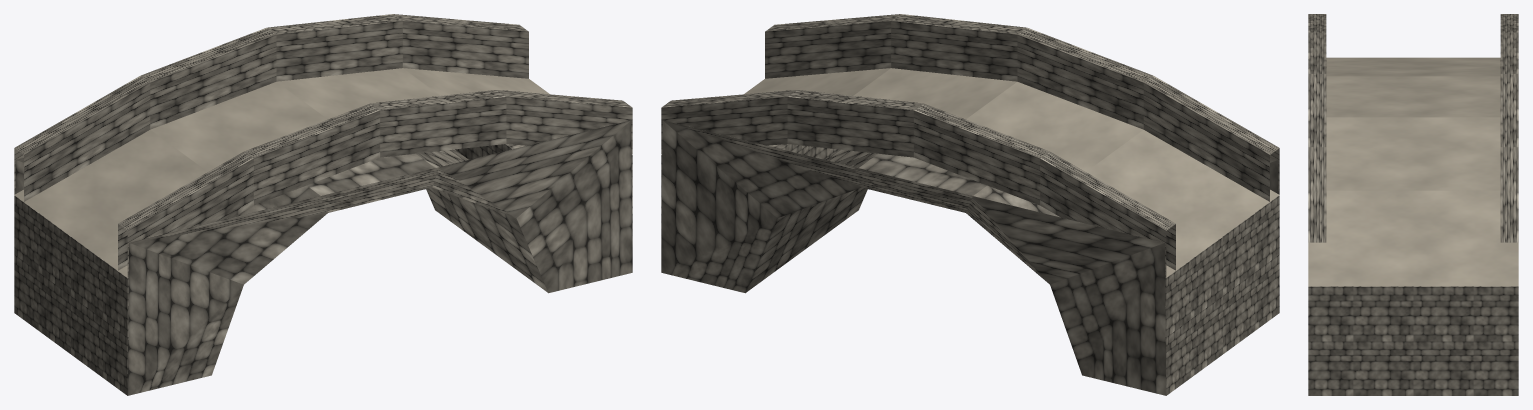
Rendered from Bridge_Stone_Hump_1_LOD2.gltf.
3 renders of one model, left to right at view 1: azimuth 30°, elevation 25°; view 2: azimuth 150°, elevation 25°; view 3: azimuth 270°, elevation 25°, orthographic. The views are drawn at different scales.
Parts seen in each view (by area): view 1: Bridge_Stone_Hump_1_LOD2; view 2: Bridge_Stone_Hump_1_LOD2; view 3: Bridge_Stone_Hump_1_LOD2.
Boxes of the visible parts, x1=… form: Bridge_Stone_Hump_1_LOD2: x1=14, y1=14, x2=632, y2=395; Bridge_Stone_Hump_1_LOD2: x1=661, y1=14, x2=1279, y2=395; Bridge_Stone_Hump_1_LOD2: x1=1308, y1=14, x2=1518, y2=395.
Size of the model in its own units: 9 by 3.81 by 3.5.
Materials: 2 (2 with a texture image).
